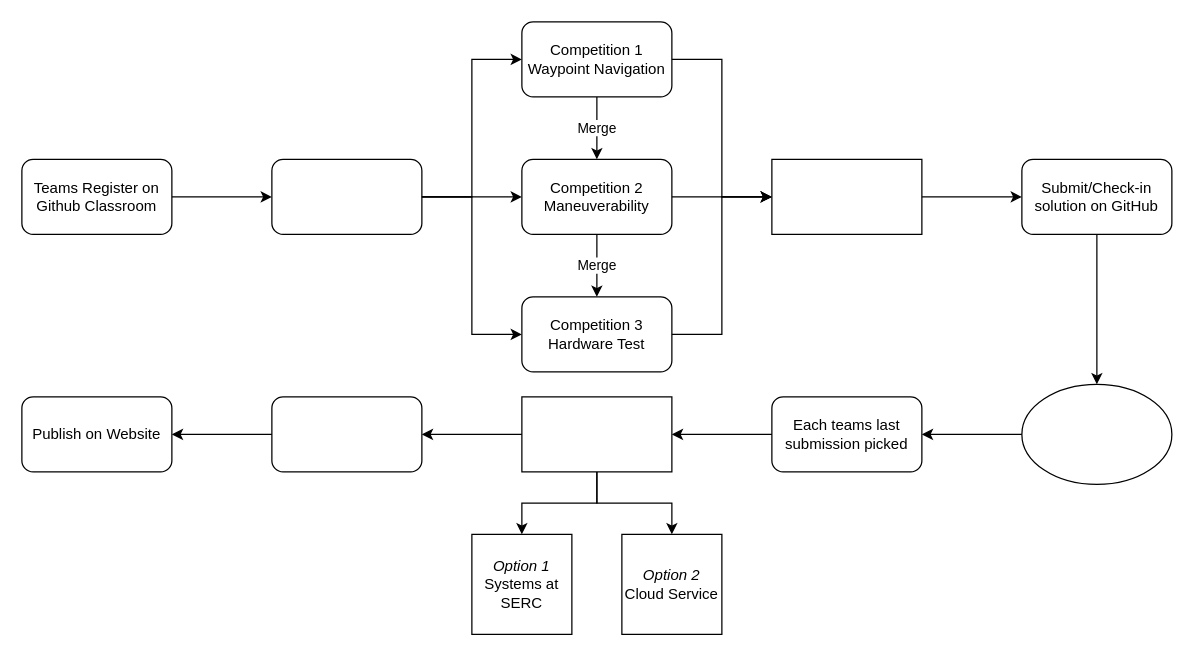
This 1194x656 diagram has some shape labels left out. Here are the shapes that lost their labels. From the top down, the box of each, then its label:
(271, 158, 422, 234): Private Repository created for each team
(771, 158, 922, 234): Pass Test Cases on Local
(271, 396, 422, 472): Generate Results
(521, 396, 672, 472): Test System on Competition Environment
(1021, 383, 1172, 484): Competition Day
